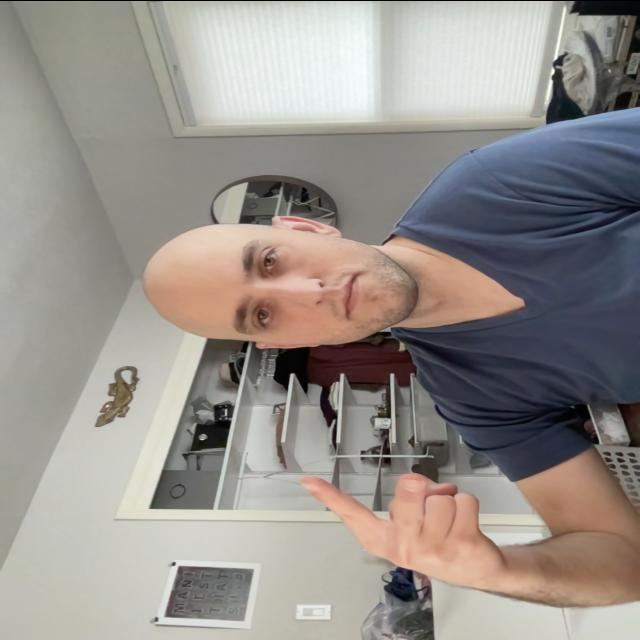Scissors: (296, 469, 514, 584)
